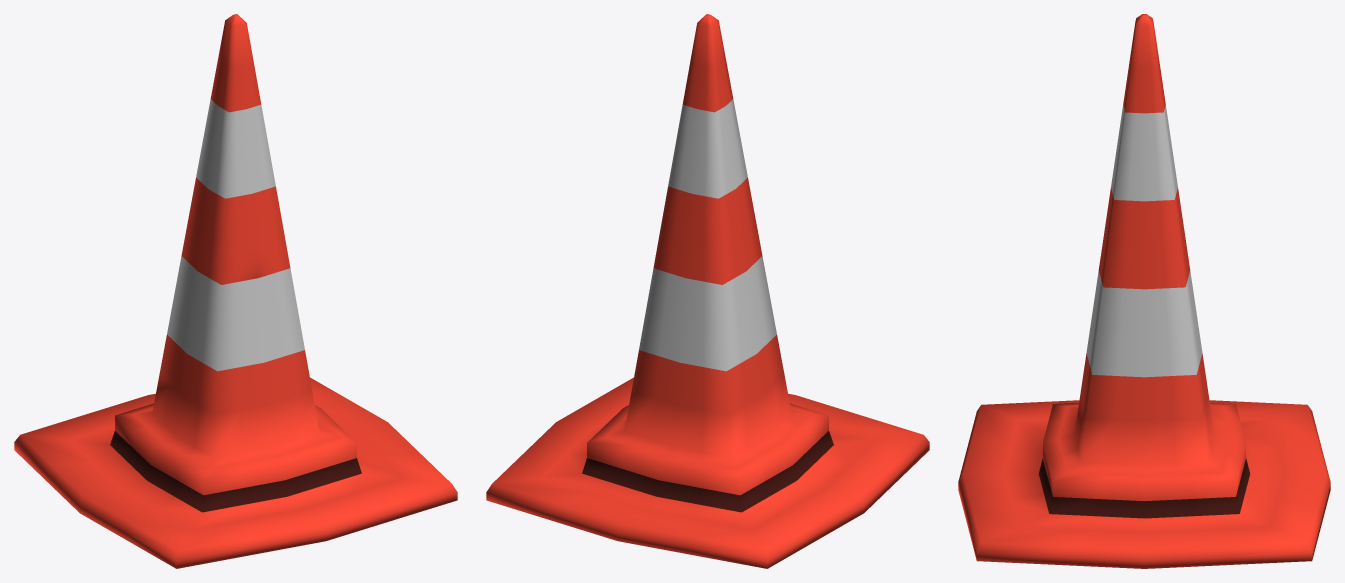
File: 三角コーン.fbx
The picture shows the model from 3 angles, left to right: view 1: azimuth 30°, elevation 25°; view 2: azimuth 150°, elevation 25°; view 3: azimuth 270°, elevation 25°; orthographic projection. The views are drawn at different scales.
Parts seen in each view (by area): view 1: 平面; view 2: 平面; view 3: 平面.
Part boxes in pixels (left/top/right/bottom): 平面: left=14, top=14, right=457, bottom=568; 平面: left=486, top=14, right=929, bottom=568; 平面: left=958, top=14, right=1330, bottom=568.
Bounding box in the file's own units: 48.33 × 68.06 × 48.33.
1 material, 1 textured.
